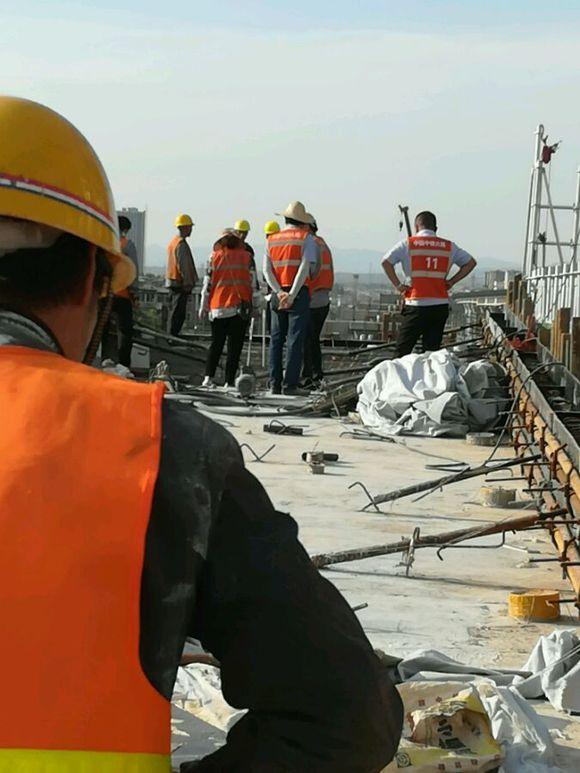helmet: (2, 82, 135, 297), (283, 195, 305, 225), (235, 217, 253, 234), (178, 213, 193, 230), (268, 220, 280, 238)
